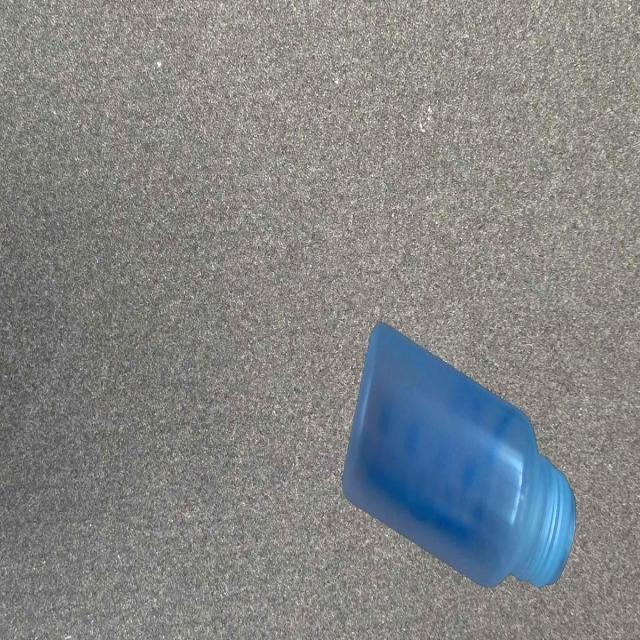bottle: (341, 319, 577, 597)
